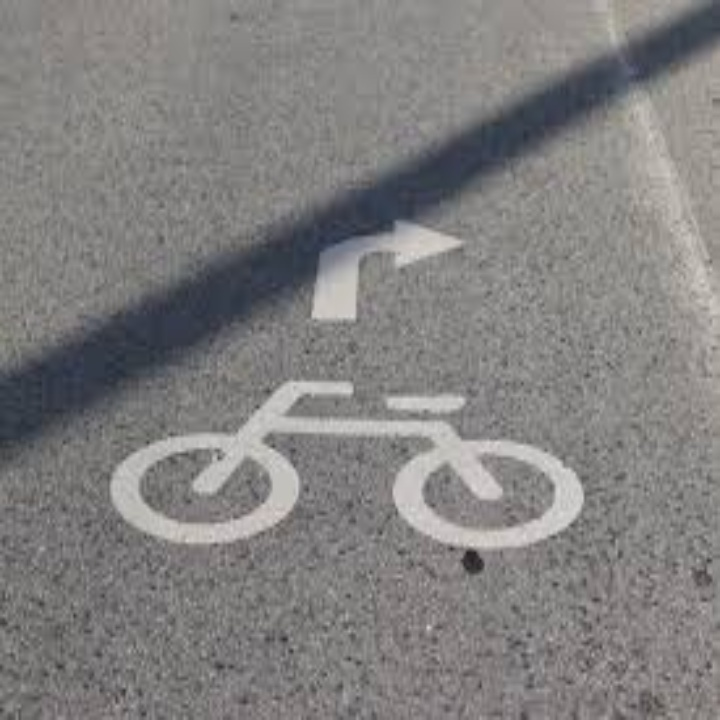bicycle: (99, 367, 621, 559)
